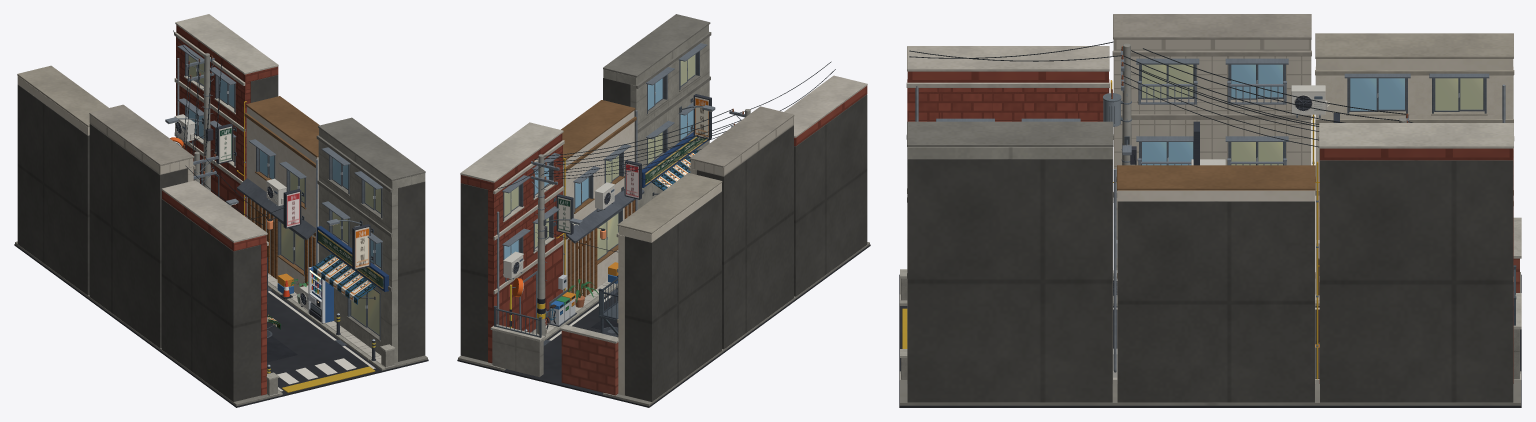
The model's file is kr_seoul_alley_street_hero.glb.
3 views of the same model, side by side, from view 1: azimuth 30°, elevation 25°; view 2: azimuth 150°, elevation 25°; view 3: azimuth 270°, elevation 25° (orthographic). The views are drawn at different scales.
Visible parts, largest first — view 1: BG_Wall_West, BG_Wall_East, BG_Floor, BG_Props_Clutter, BG_Wall_South, BG_Ceiling, BG_Furniture_Hero; view 2: BG_Wall_West, BG_Wall_East, BG_Wall_North, BG_Floor, BG_Props_Clutter, BG_Ceiling; view 3: BG_Wall_East, BG_Wall_West, BG_Floor, BG_Ceiling, BG_Props_Clutter, BG_Wall_North, BG_Wall_South.
Part boxes in pixels (bbox=[...]): BG_Wall_West: bbox=[17, 65, 281, 401]; BG_Wall_East: bbox=[174, 14, 425, 362]; BG_Floor: bbox=[14, 241, 428, 407]; BG_Props_Clutter: bbox=[165, 53, 375, 373]; BG_Wall_South: bbox=[266, 344, 395, 395]; BG_Ceiling: bbox=[169, 30, 320, 302]; BG_Furniture_Hero: bbox=[267, 266, 333, 373]; BG_Wall_West: bbox=[598, 75, 867, 401]; BG_Wall_East: bbox=[460, 14, 715, 363]; BG_Wall_North: bbox=[490, 305, 618, 395]; BG_Floor: bbox=[457, 242, 870, 407]; BG_Props_Clutter: bbox=[509, 108, 750, 337]; BG_Ceiling: bbox=[497, 61, 835, 294]; BG_Wall_East: bbox=[906, 121, 1514, 402]; BG_Wall_West: bbox=[906, 14, 1514, 295]; BG_Floor: bbox=[899, 272, 1521, 407]; BG_Ceiling: bbox=[909, 41, 1412, 164]; BG_Props_Clutter: bbox=[1103, 43, 1408, 378]; BG_Wall_North: bbox=[1513, 217, 1521, 379]; BG_Wall_South: bbox=[900, 269, 907, 379].
Size of the model in its own units: 8 by 7.47 by 16.
Materials: 4 (4 with a texture image).
